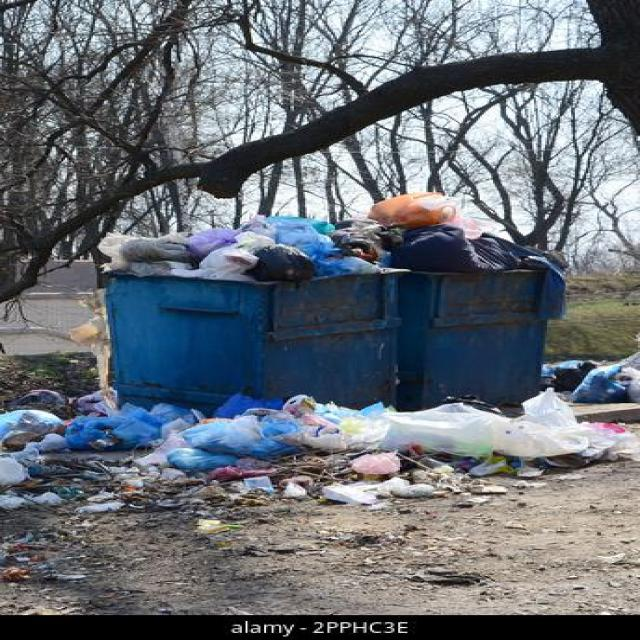trash: (24, 224, 608, 492)
